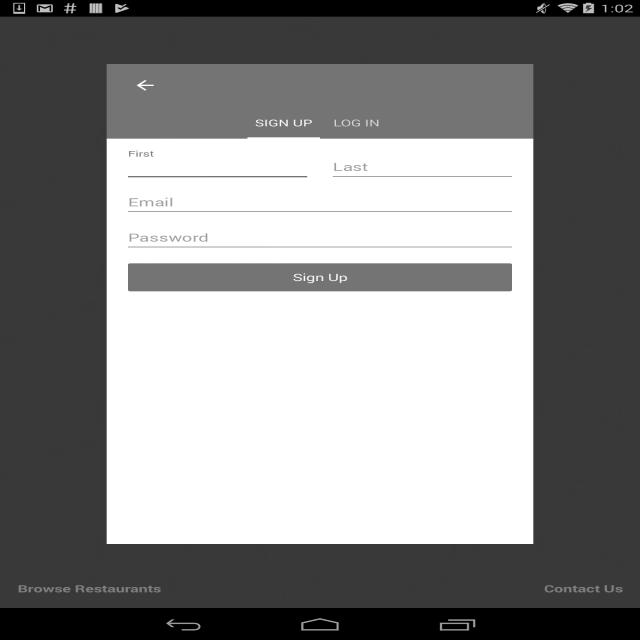Button: (128, 264, 512, 292)
EditText: (124, 227, 516, 253), (124, 192, 516, 217), (124, 157, 311, 182), (329, 157, 516, 182)
ImageButton: (115, 64, 175, 107)
TextView: (255, 116, 312, 129), (333, 116, 380, 129)
